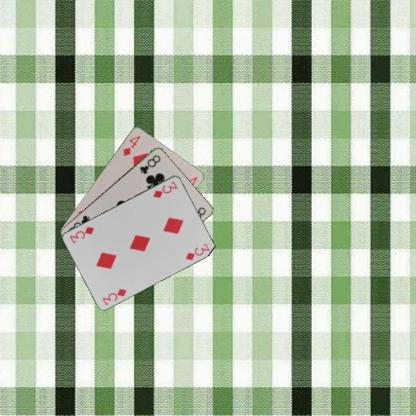3d: (151, 178, 178, 200), (99, 286, 128, 306)
4d: (120, 133, 142, 157)
8c: (137, 152, 162, 175)
